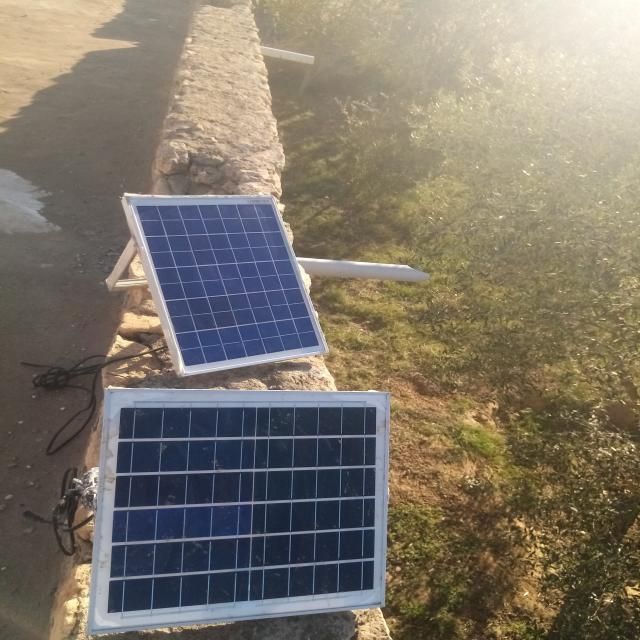faulty: (87, 389, 392, 632)
no faulty: (126, 195, 329, 376)
